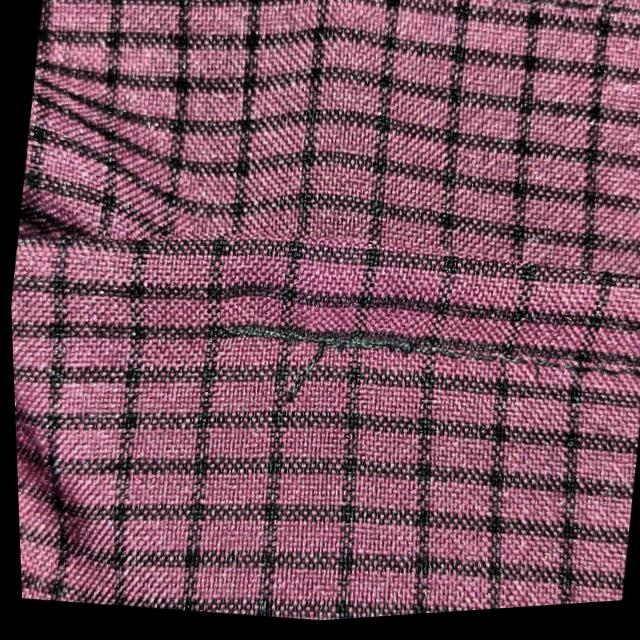Stitch: (242, 302, 357, 459)
